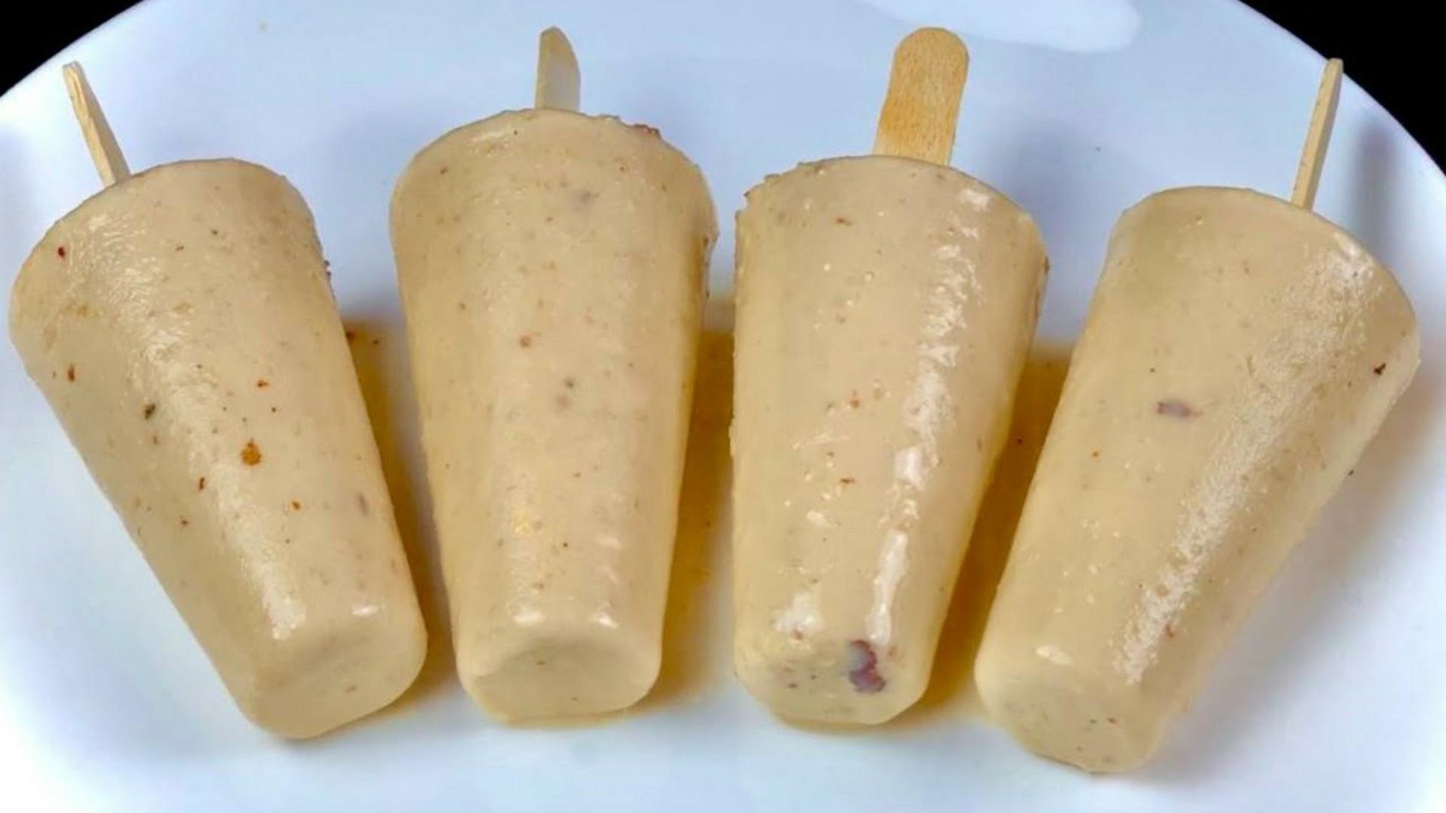Kulfi: (972, 188, 1426, 778), (10, 159, 429, 744), (389, 108, 721, 724), (731, 155, 1050, 732)
